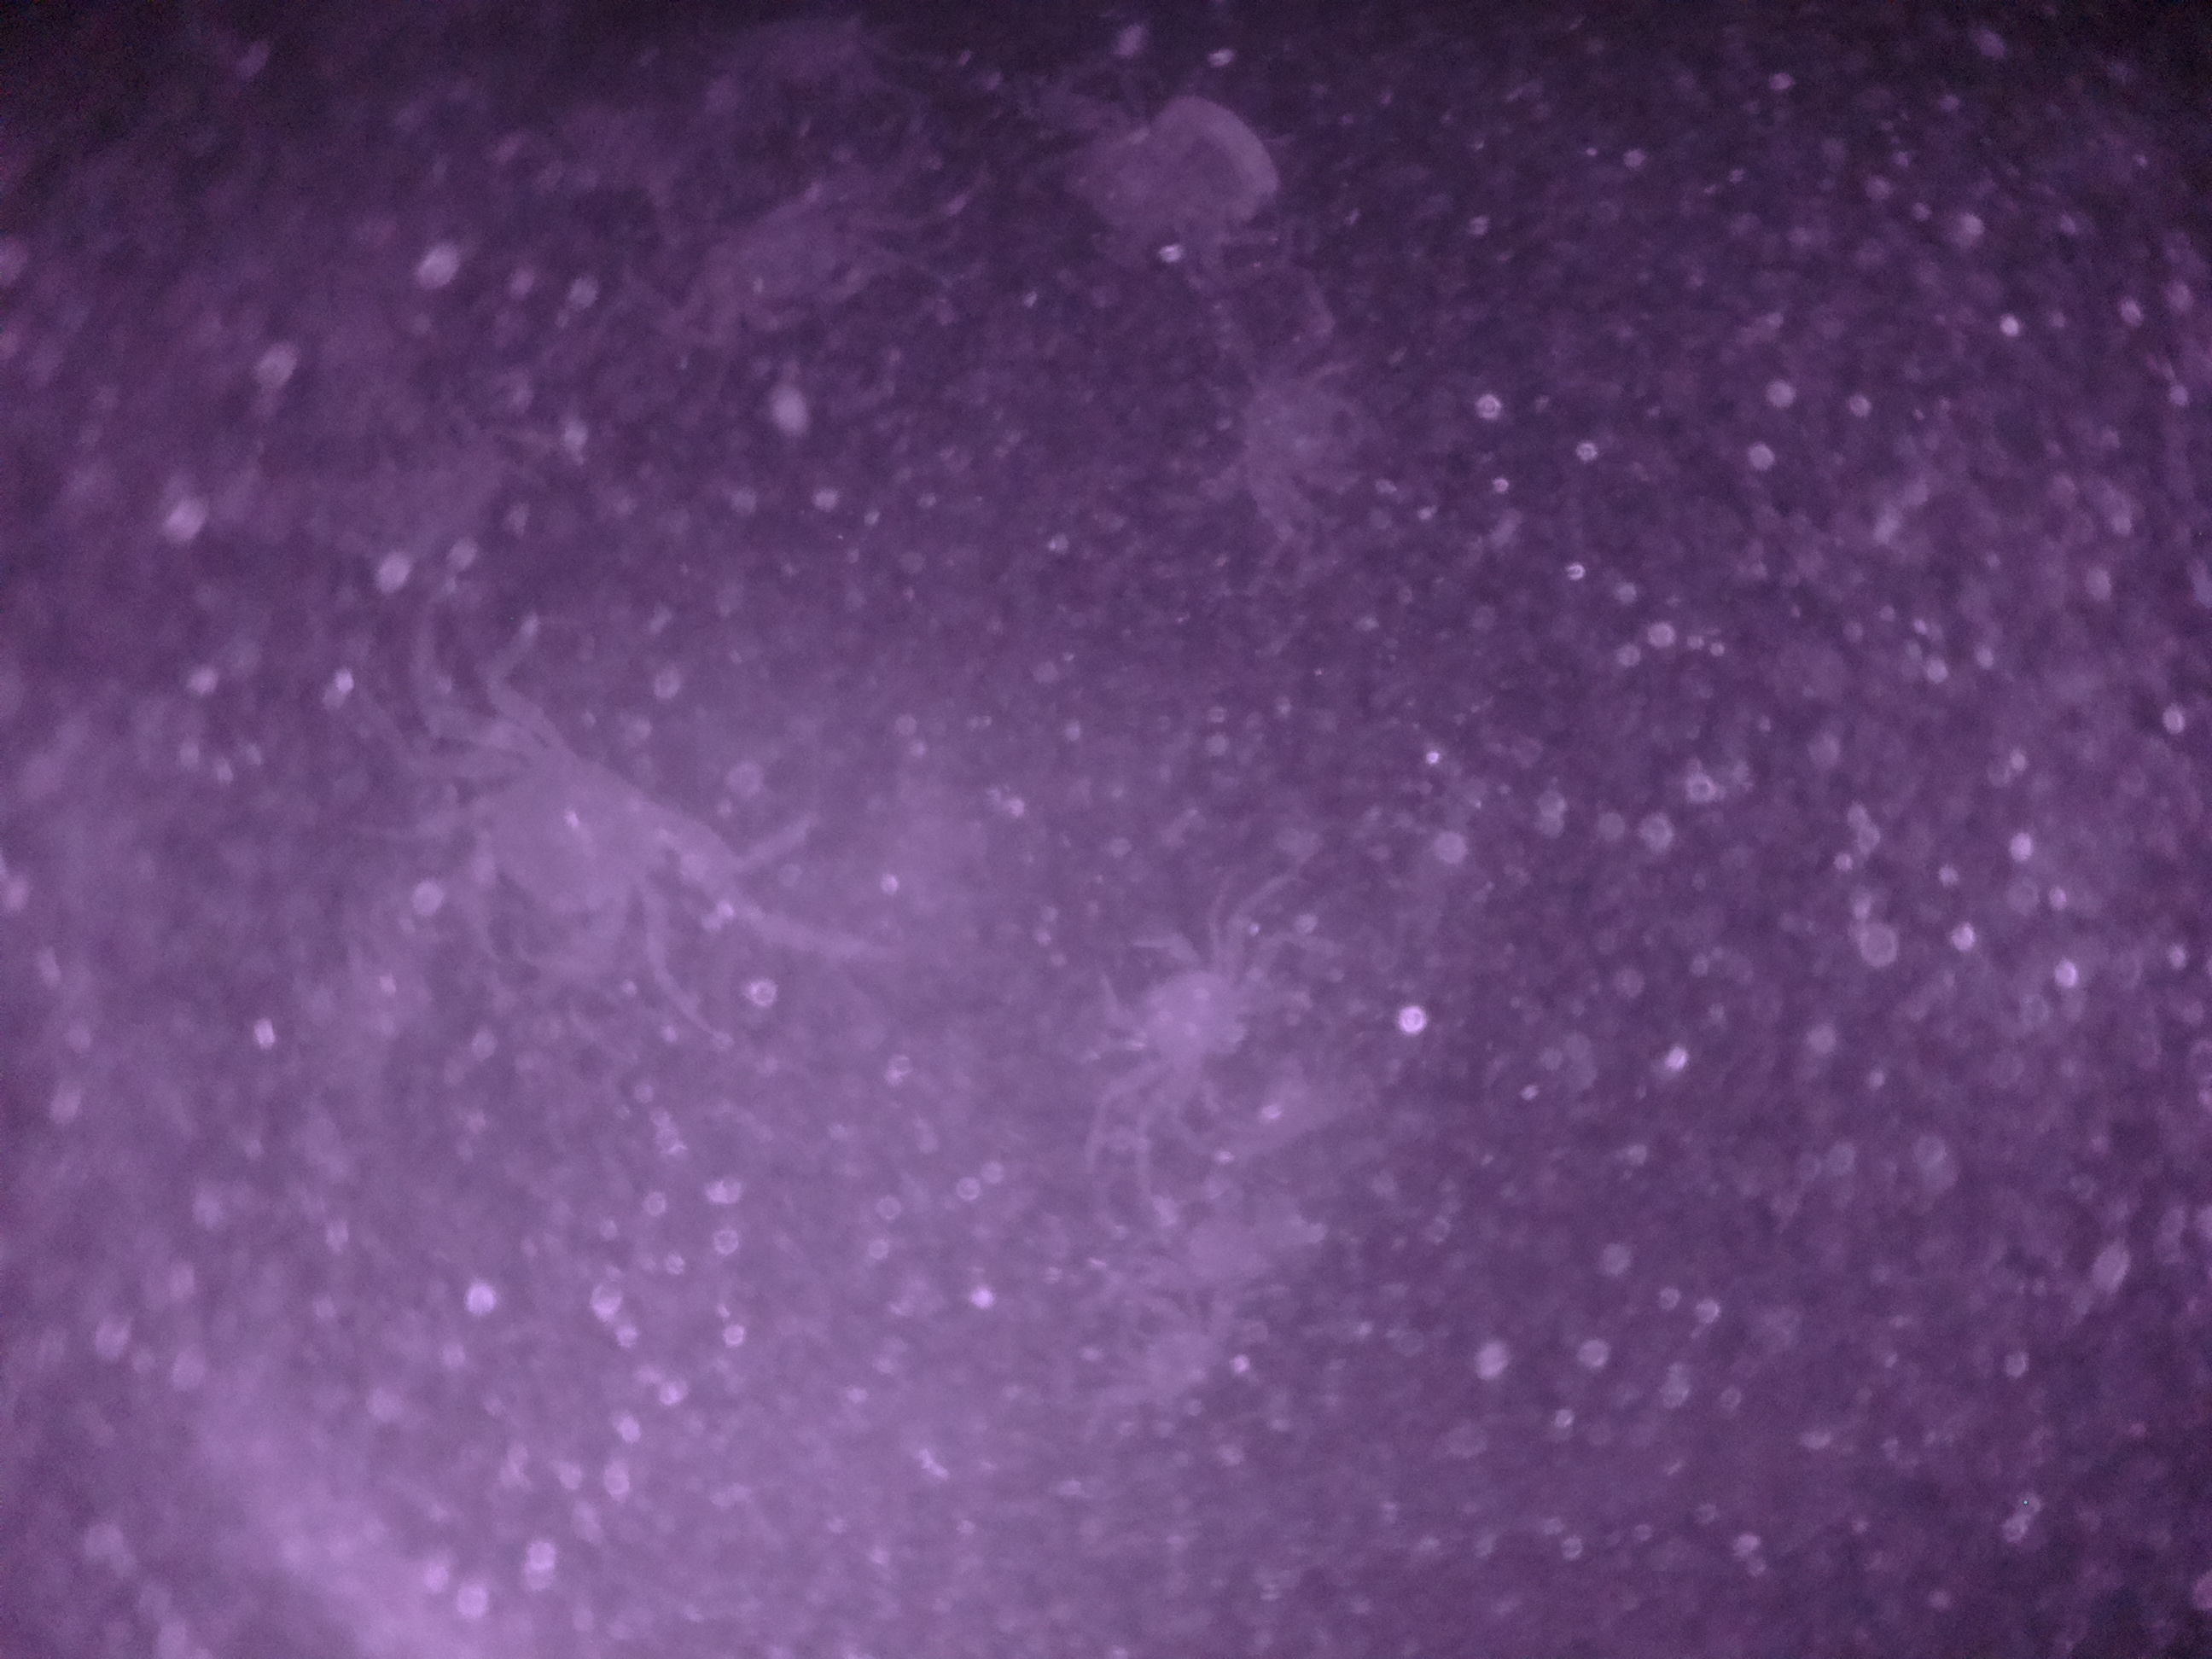Crab: (1075, 899, 1271, 1121)
